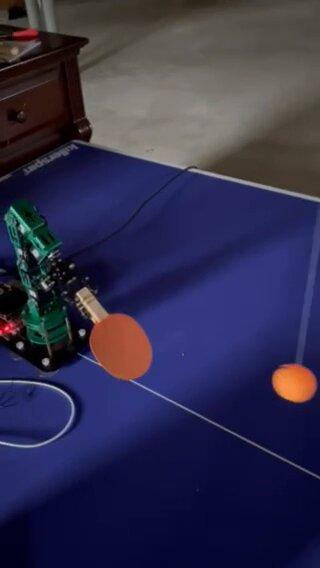oball: (273, 366, 314, 403)
